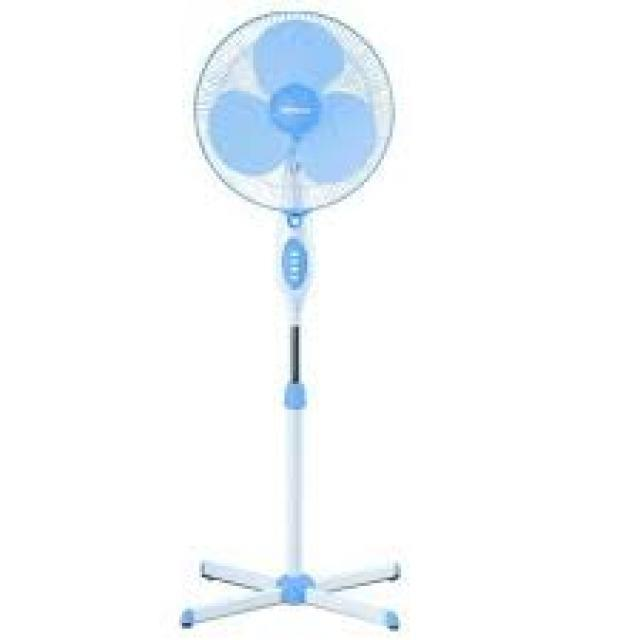fan: (132, 0, 440, 640)
